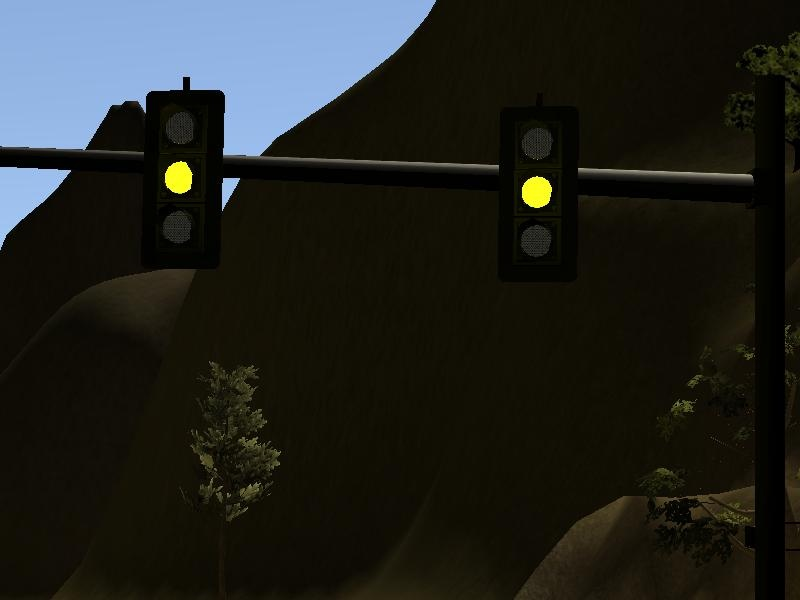yellow: (135, 73, 228, 277), (491, 95, 586, 287)
